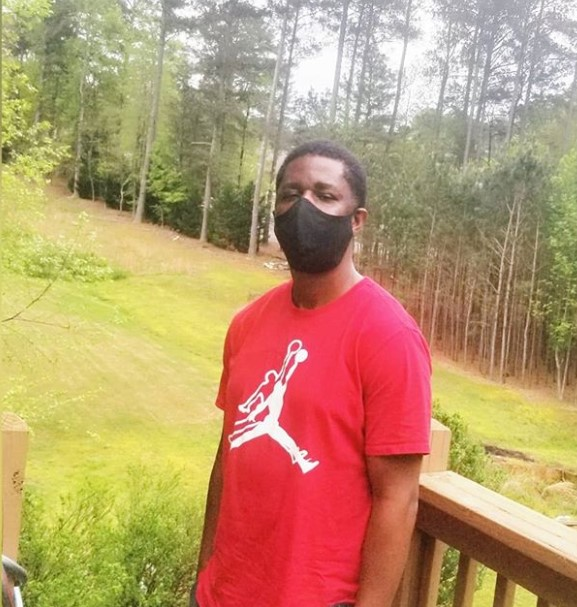face_with_mask: (269, 142, 369, 274)
